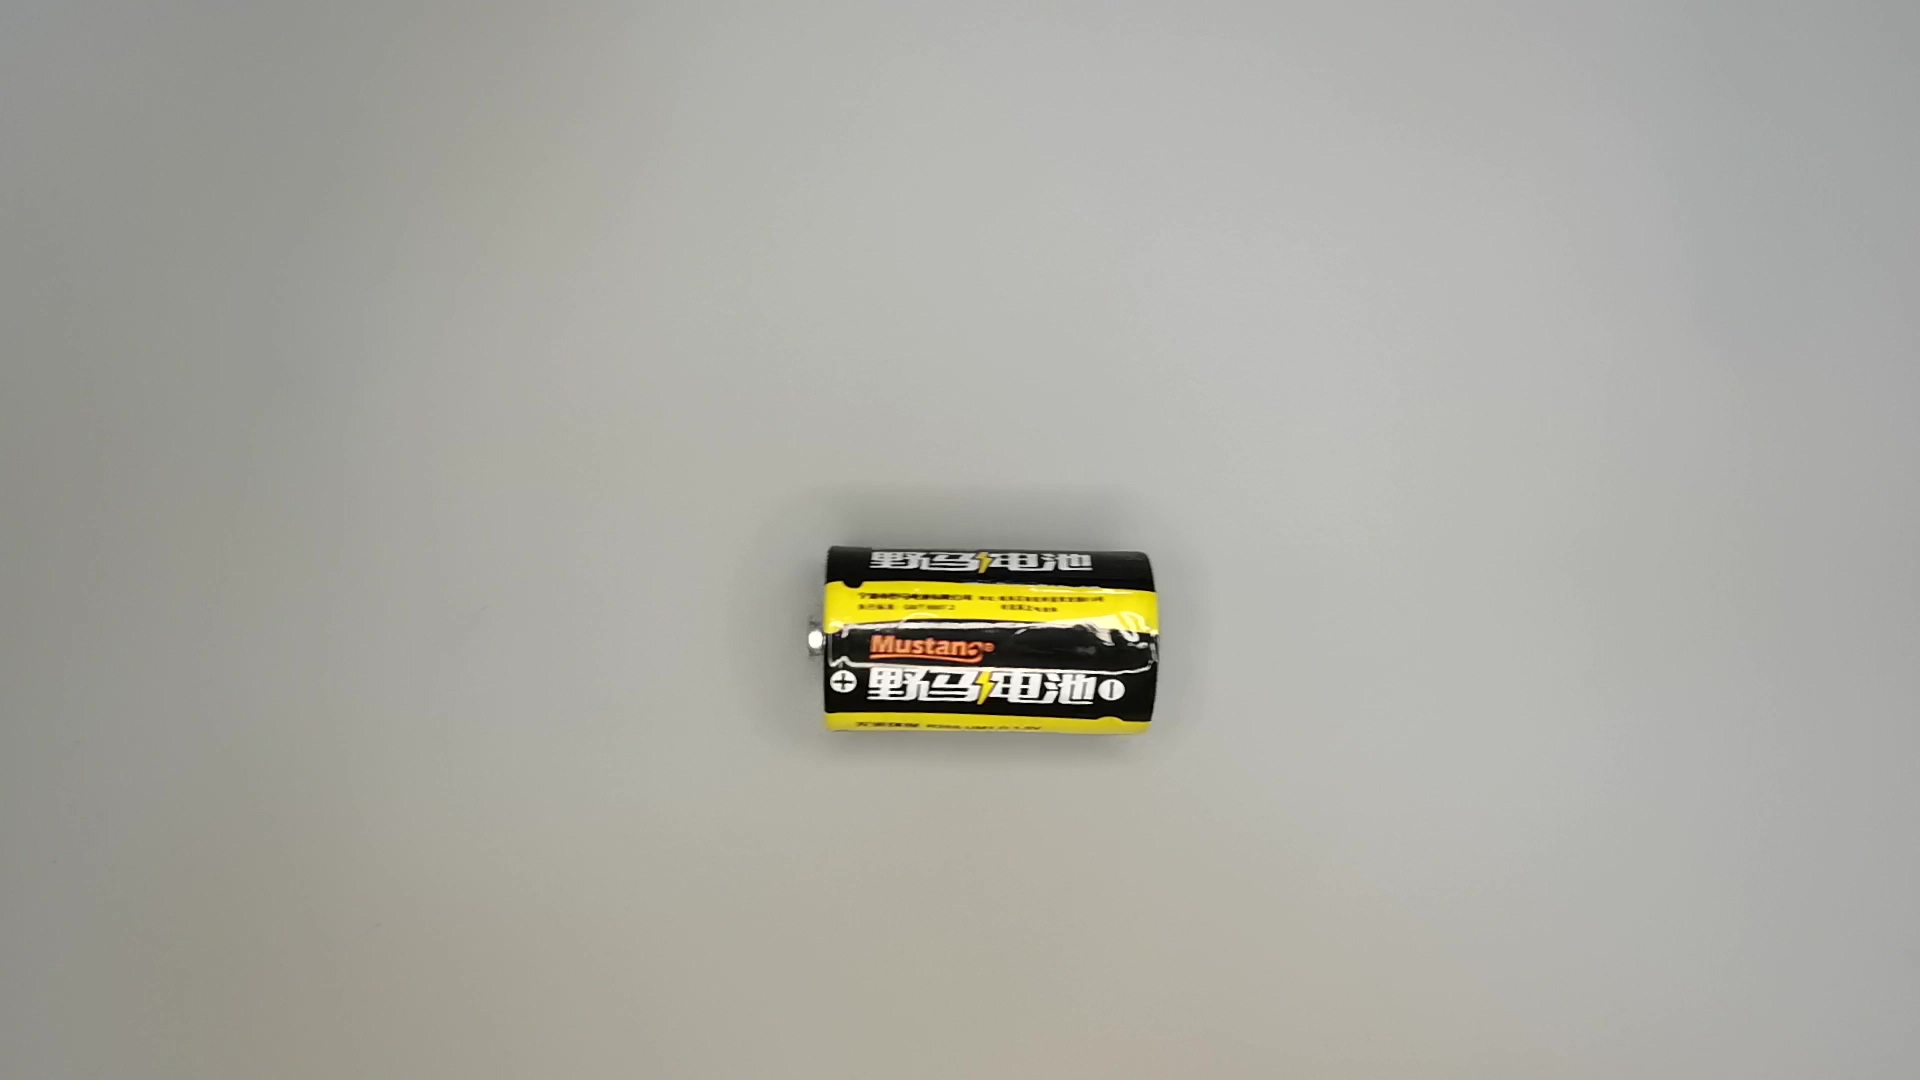battery: (803, 538, 1167, 745)
